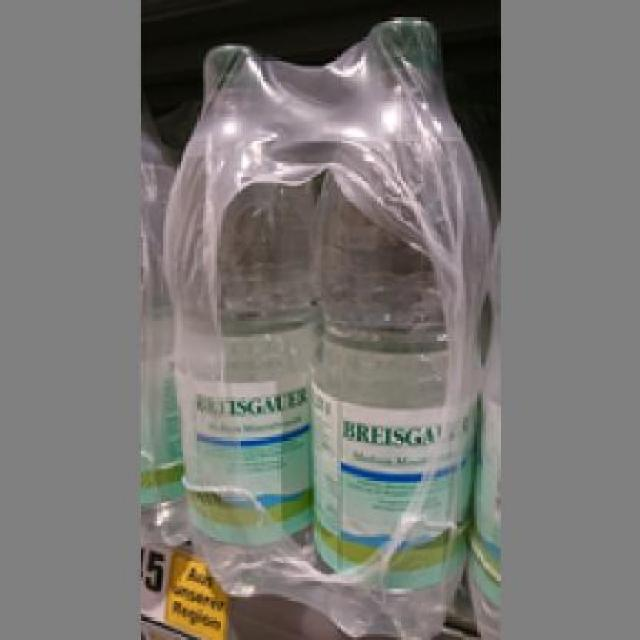Water: (312, 8, 488, 638), (160, 42, 317, 598)
